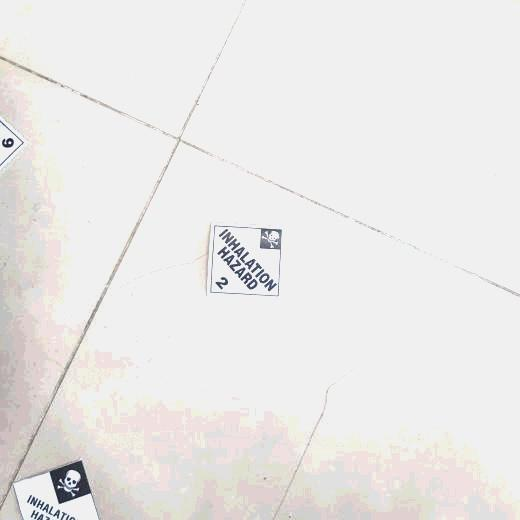poison: (208, 224, 286, 298), (11, 460, 101, 520)
